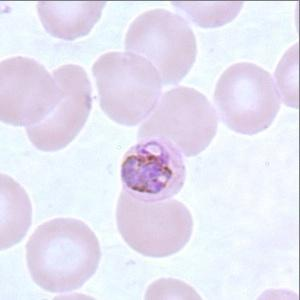Infected: (119, 135, 184, 202)
Uninfected: (25, 219, 101, 294), (28, 66, 93, 153), (118, 183, 193, 258), (142, 84, 215, 160), (124, 9, 194, 85), (88, 51, 159, 123), (212, 62, 280, 137), (0, 56, 64, 128)
